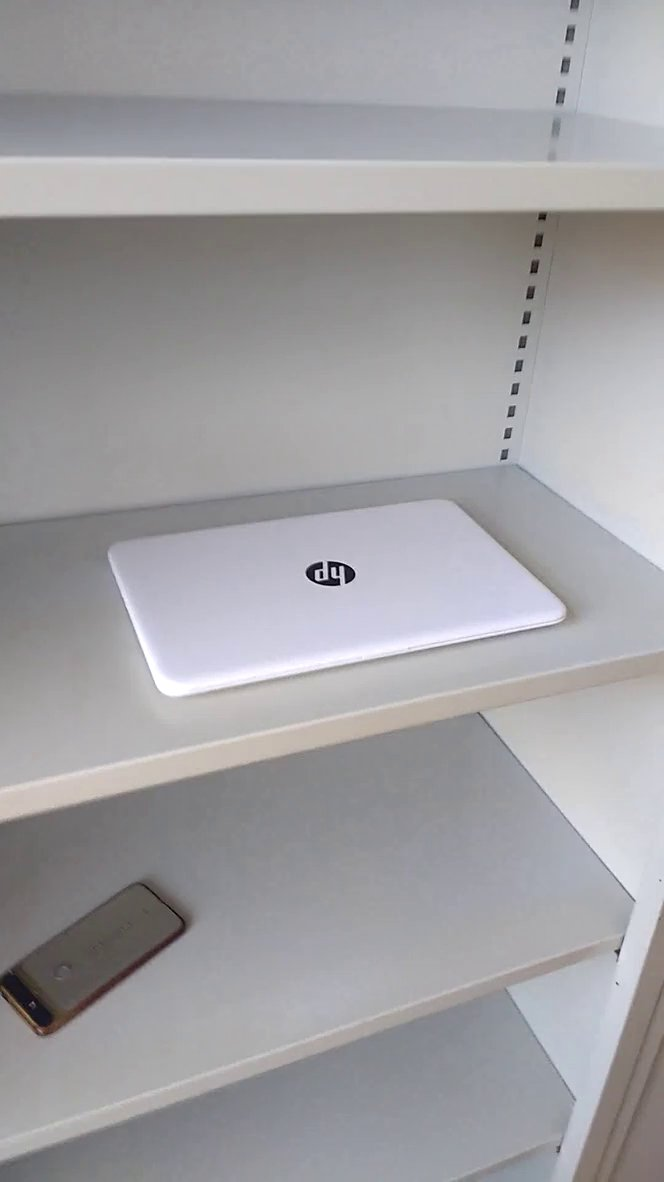laptop: (98, 485, 580, 719)
phone: (1, 866, 204, 1055)
